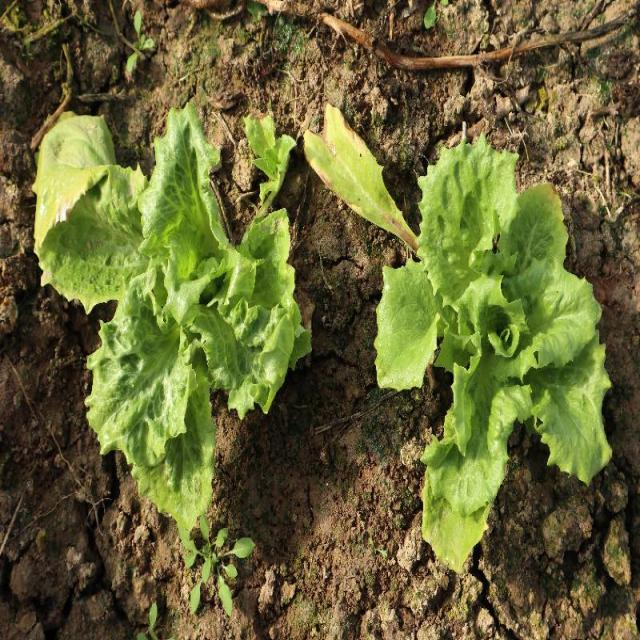crop: (35, 106, 297, 534), (372, 142, 613, 568)
